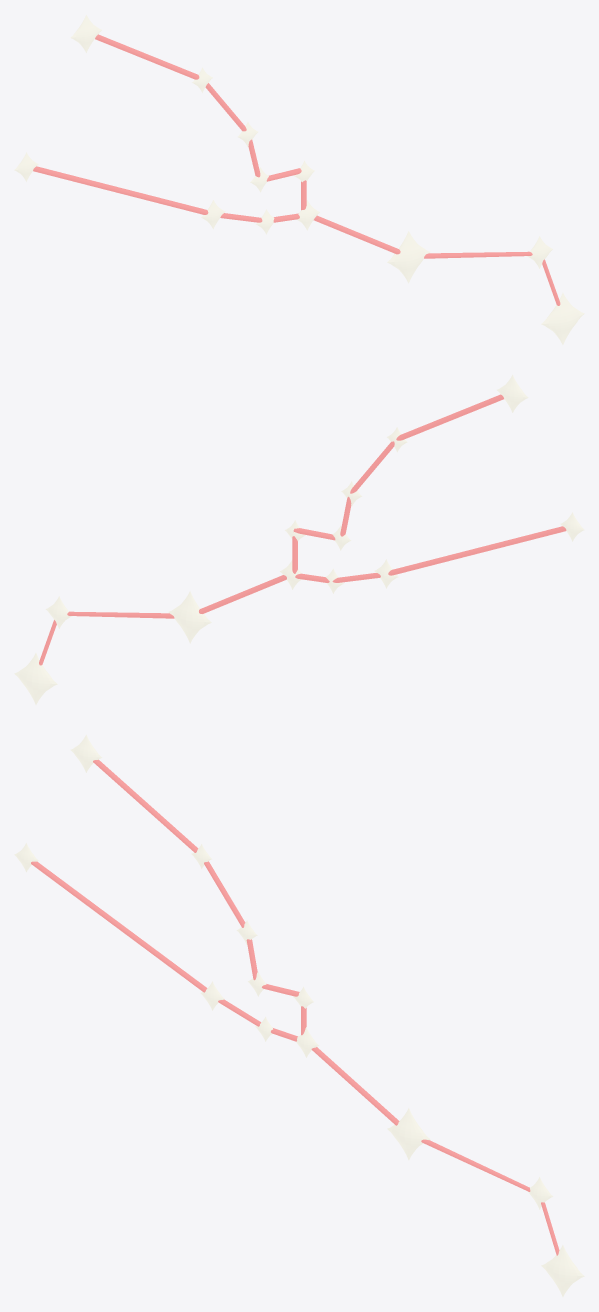
File: sozvezdiya-telec.glb
3 views of the same model, one above another, from view 1: azimuth 30°, elevation 25°; view 2: azimuth 150°, elevation 25°; view 3: azimuth 330°, elevation 25° (orthographic).
Parts seen in each view (by area): view 1: Cylinder, Sphere.004, Sphere.003, Sphere.001; view 2: Cylinder, Sphere.004, Sphere.003, Sphere.001; view 3: Cylinder, Sphere.004, Sphere.003.
Boxes of the visible parts, x1,y1,x2,y2 form: Cylinder: (33, 34, 560, 305); Sphere.004: (541, 292, 584, 344); Sphere.003: (387, 231, 430, 283); Sphere.001: (70, 15, 101, 52); Cylinder: (39, 394, 566, 665); Sphere.004: (14, 653, 57, 704); Sphere.003: (168, 591, 211, 643); Sphere.001: (497, 374, 528, 412); Cylinder: (31, 759, 559, 1255); Sphere.004: (541, 1245, 584, 1296); Sphere.003: (387, 1108, 430, 1160).
Size of the model in its own units: 0.1827 by 0.1368 by 0.0046.
